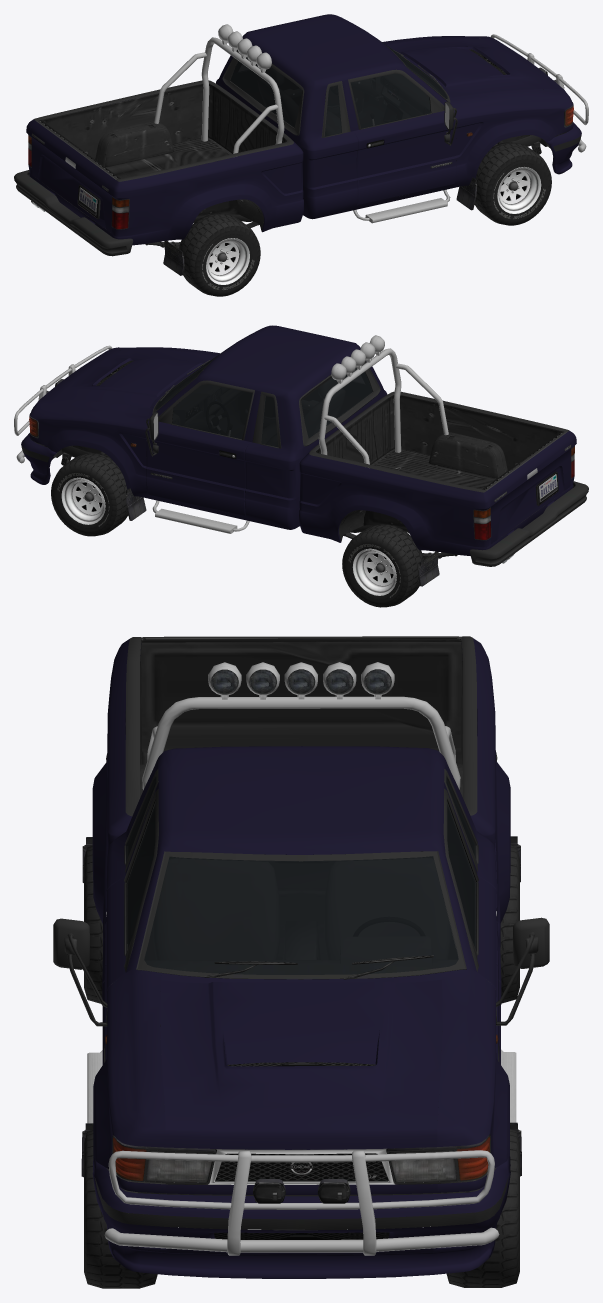
File: lightbody-pickup.glb
The picture shows the model from 3 angles, top to bottom: view 1: azimuth 30°, elevation 25°; view 2: azimuth 150°, elevation 25°; view 3: azimuth 270°, elevation 25°; orthographic projection. The views are drawn at different scales.
Visible parts, largest first — view 1: krmlgtbdy85_Body_krmlgtbdy85_Bodymat_0, krmlgtbdy85_Bumper_Rear_UCB_BOTTOM_0, krmlgtbdy85_WheelStock_FL_RO1a_Tire_0, krmlgtbdy85_Headlights_Glass_UCB_Lights_and_Glass_Transperen, krmlgtbdy85_Interior_UCB_Interiors_1_0, krmlgtbdy85_Headlights_UCB_Lights_and_Glass_0; view 2: krmlgtbdy85_Body_krmlgtbdy85_Bodymat_0, krmlgtbdy85_Bumper_Rear_UCB_BOTTOM_0, krmlgtbdy85_WheelStock_FL_RO1a_Tire_0, krmlgtbdy85_Headlights_Glass_UCB_Lights_and_Glass_Transperen, krmlgtbdy85_Interior_UCB_Interiors_1_0, krmlgtbdy85_Headlights_UCB_Lights_and_Glass_0; view 3: krmlgtbdy85_Body_krmlgtbdy85_Bodymat_0, krmlgtbdy85_Bumper_Rear_UCB_BOTTOM_0, krmlgtbdy85_Headlights_Glass_UCB_Lights_and_Glass_Transperen, krmlgtbdy85_Interior_UCB_Interiors_1_0, krmlgtbdy85_WheelStock_FL_RO1a_Tire_0, krmlgtbdy85_Headlights_UCB_Lights_and_Glass_0.
Boxes of the visible parts, x1,y1,x2,y2 form: krmlgtbdy85_Body_krmlgtbdy85_Bodymat_0: [26, 14, 581, 245]; krmlgtbdy85_Bumper_Rear_UCB_BOTTOM_0: [14, 24, 588, 275]; krmlgtbdy85_WheelStock_FL_RO1a_Tire_0: [179, 142, 551, 296]; krmlgtbdy85_Headlights_Glass_UCB_Lights_and_Glass_Transperen: [28, 41, 573, 229]; krmlgtbdy85_Interior_UCB_Interiors_1_0: [227, 57, 446, 135]; krmlgtbdy85_Headlights_UCB_Lights_and_Glass_0: [29, 108, 571, 228]; krmlgtbdy85_Body_krmlgtbdy85_Bodymat_0: [21, 325, 576, 555]; krmlgtbdy85_Bumper_Rear_UCB_BOTTOM_0: [14, 335, 588, 586]; krmlgtbdy85_WheelStock_FL_RO1a_Tire_0: [51, 453, 423, 607]; krmlgtbdy85_Headlights_Glass_UCB_Lights_and_Glass_Transperen: [29, 352, 574, 539]; krmlgtbdy85_Interior_UCB_Interiors_1_0: [157, 368, 375, 446]; krmlgtbdy85_Headlights_UCB_Lights_and_Glass_0: [31, 419, 573, 539]; krmlgtbdy85_Body_krmlgtbdy85_Bodymat_0: [92, 638, 510, 1278]; krmlgtbdy85_Bumper_Rear_UCB_BOTTOM_0: [53, 636, 549, 1255]; krmlgtbdy85_Headlights_Glass_UCB_Lights_and_Glass_Transperen: [113, 776, 490, 1183]; krmlgtbdy85_Interior_UCB_Interiors_1_0: [129, 783, 473, 974]; krmlgtbdy85_WheelStock_FL_RO1a_Tire_0: [84, 845, 519, 1288]; krmlgtbdy85_Headlights_UCB_Lights_and_Glass_0: [113, 1137, 489, 1182].
Bounding box in the file's own units: 4.93 × 1.92 × 2.14.
8 materials, 7 textured.
